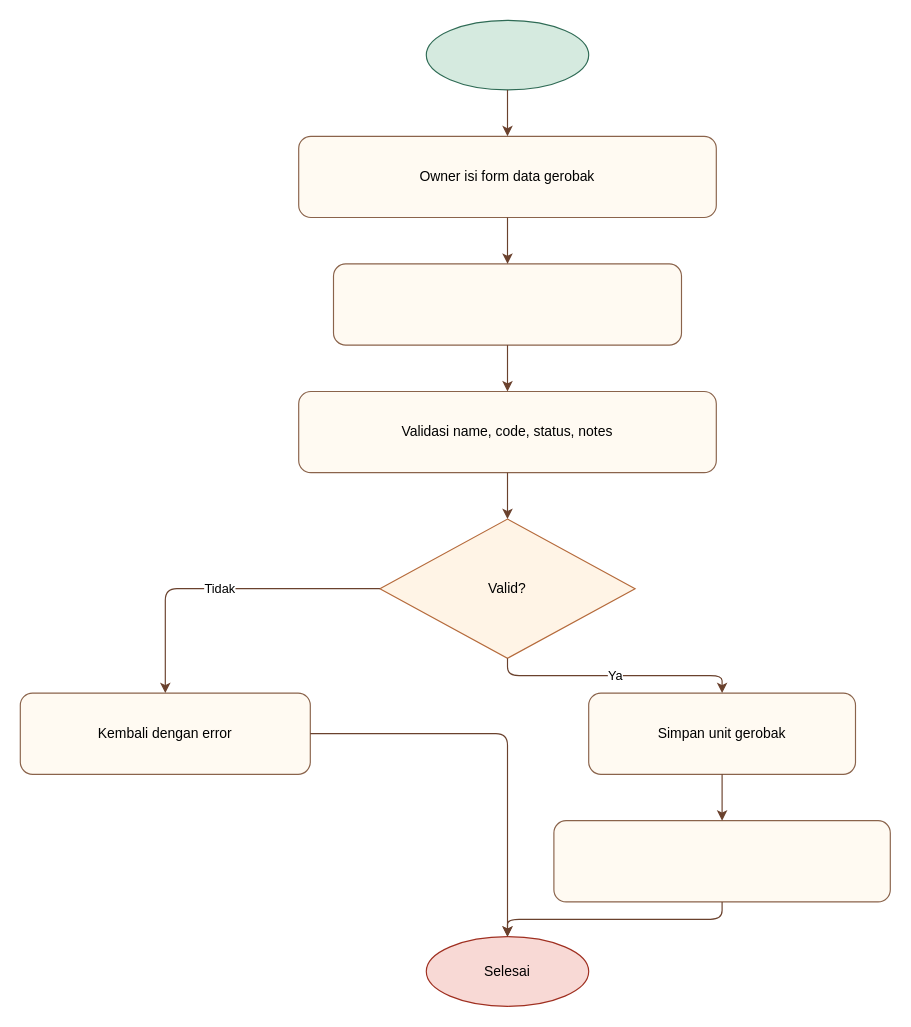
Image size: 911x1027. Some labels were removed from this diagram. The centre of each missing label's shape, as x and y in pixels:
Mulai: (507,54)
POST /dashboard/units: (507,304)
Redirect sukses ke dashboard: (721,861)
